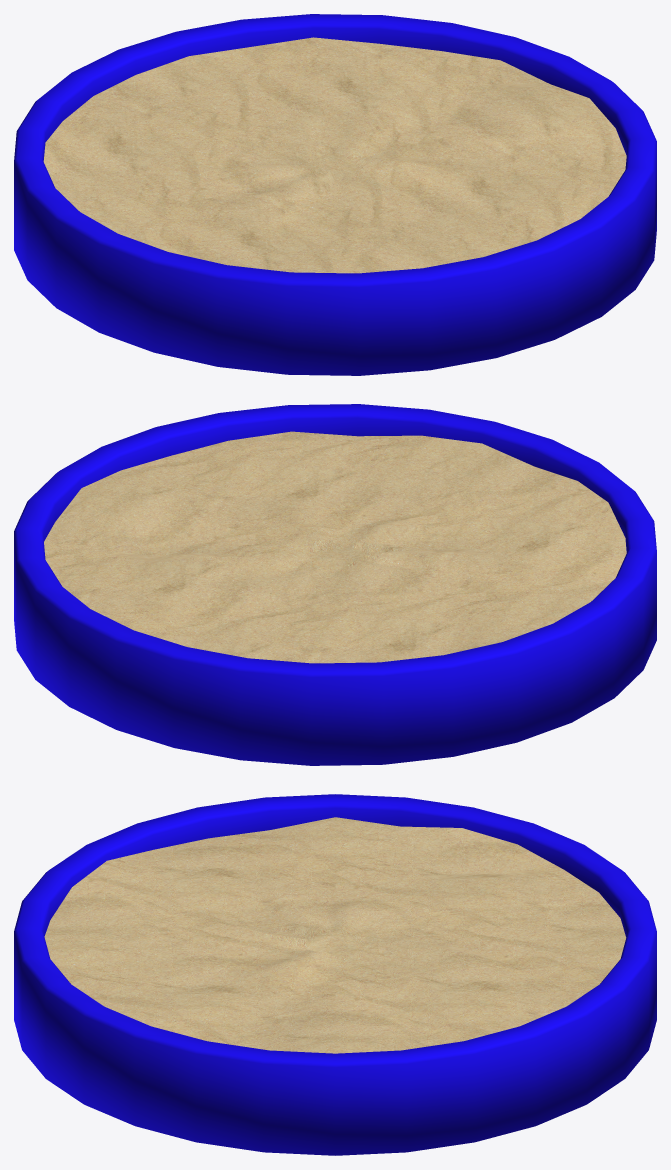
File: sandbox2.glb
3 renders of one model, top to bottom at view 1: azimuth 30°, elevation 25°; view 2: azimuth 150°, elevation 25°; view 3: azimuth 270°, elevation 25°, orthographic.
Parts seen in each view (by area): view 1: sandbox2; view 2: sandbox2; view 3: sandbox2.
Part boxes in pixels (x1,y1,x2,y2): sandbox2: (14,14,656,375); sandbox2: (14,404,656,765); sandbox2: (14,794,656,1155).
Size of the model in its own units: 2.44 by 0.3828 by 2.44.
Materials: 2 (2 with a texture image).
